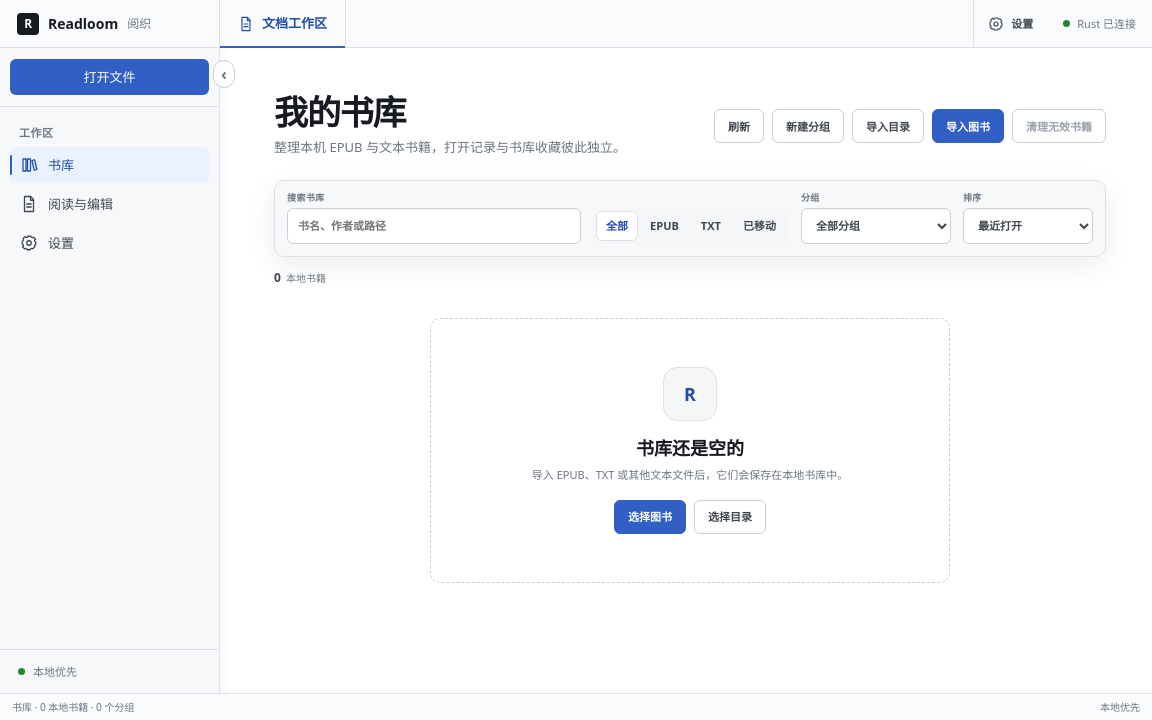
Test: EPUB and TXT workspace tabs › reviews a selected directory before importing only new checked books
Click the button "导入目录". click: (888, 126)
box: [852,109,924,143]
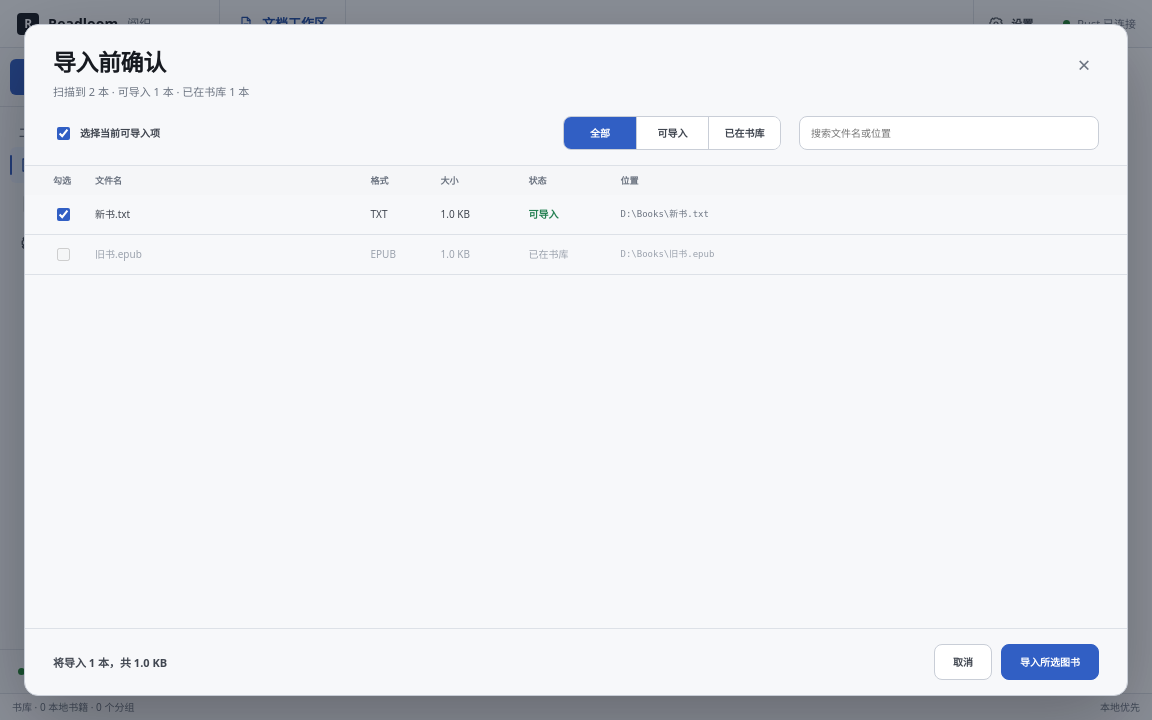
expect the dialog "导入前确认" is shown: met
expect the checkbox named "选择 旧书.epub" is disabled: met, box [57,248,70,261]
Click the button "导入所选图书". click: (1050, 662)
box: [1001,644,1099,680]
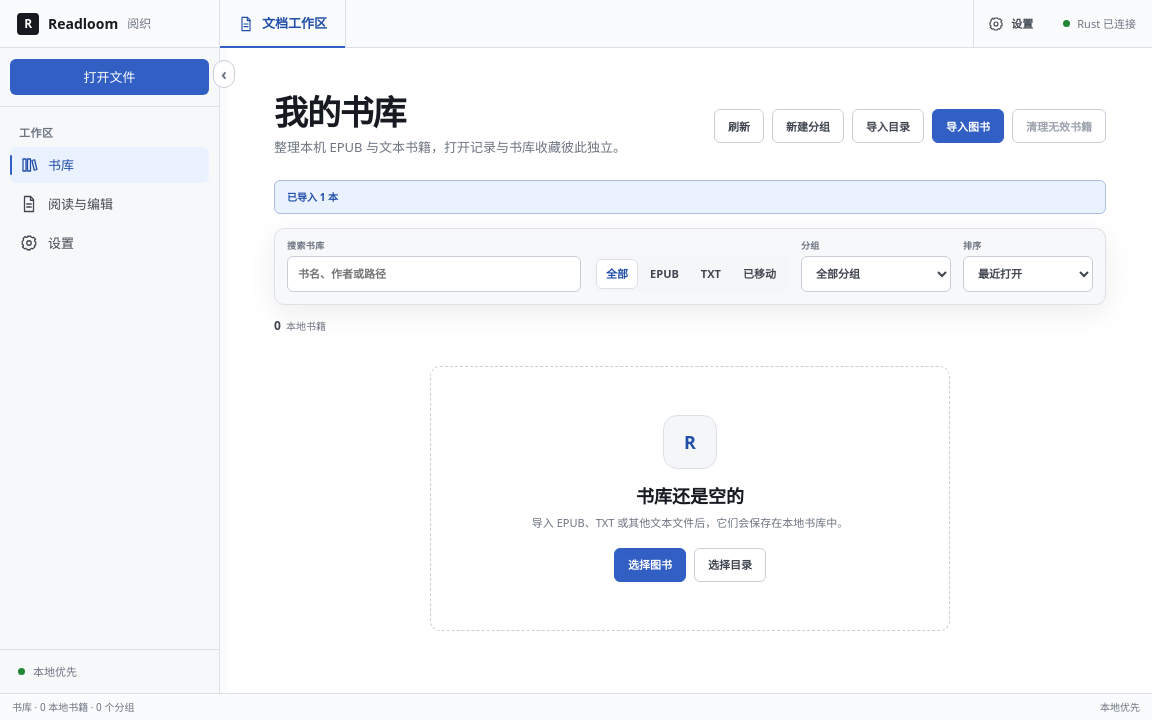
expect the heading "导入前确认" is gone: met
